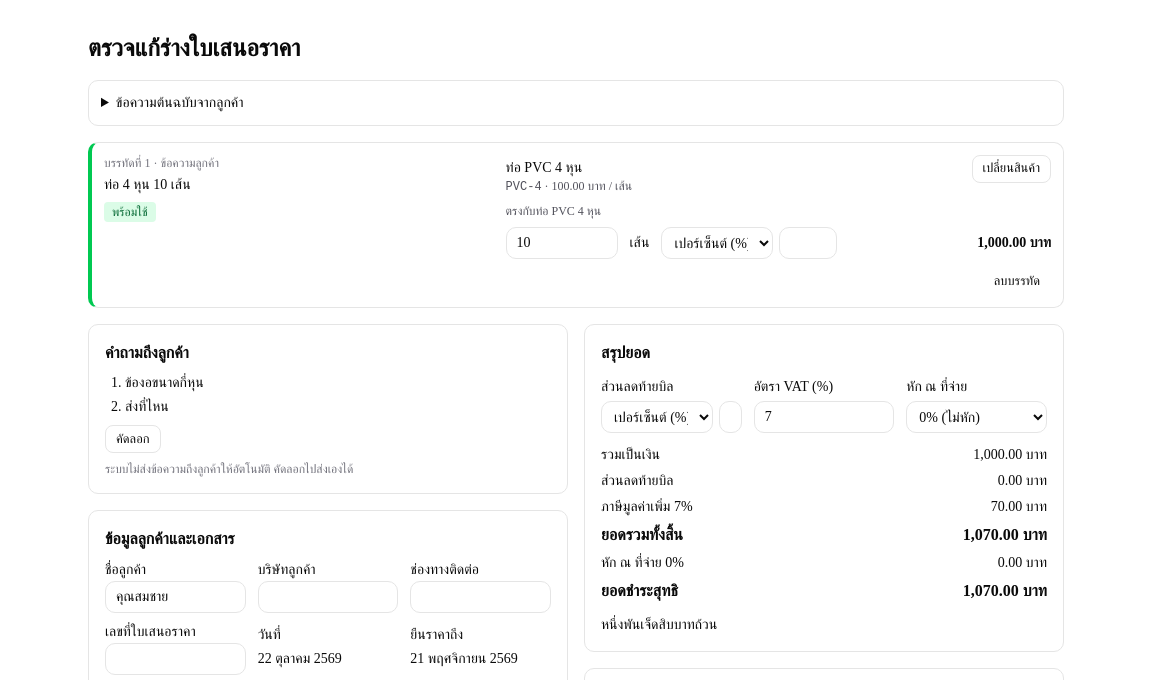
Test: number inputs › rejects a quantity with more than 3 decimals
Type "1.2345" into the field named "จำนวน บรรทัดที่ 1" at (562, 243), box [506, 227, 618, 259]
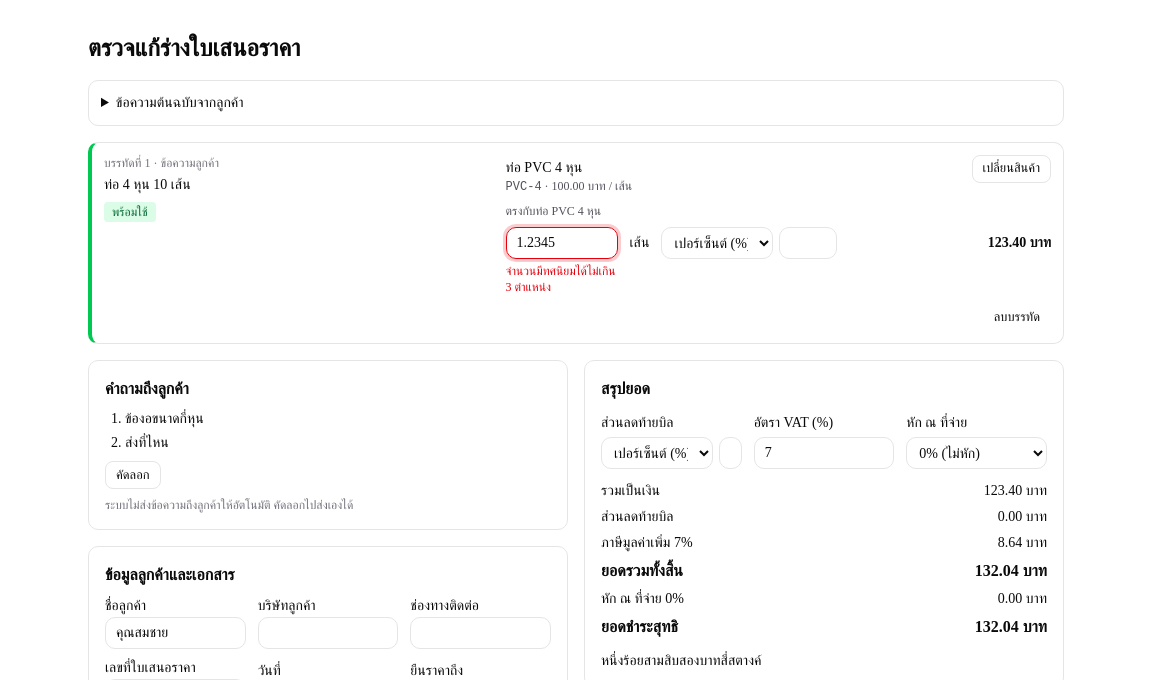
Expected: the text "จำนวนมีทศนิยมได้ไม่เกิน 3 ตำแหน่ง" is shown, [506, 263, 618, 295]
